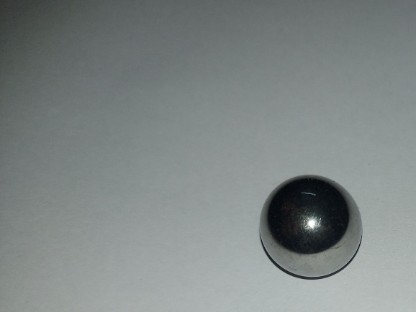ironball: (256, 168, 361, 283)
